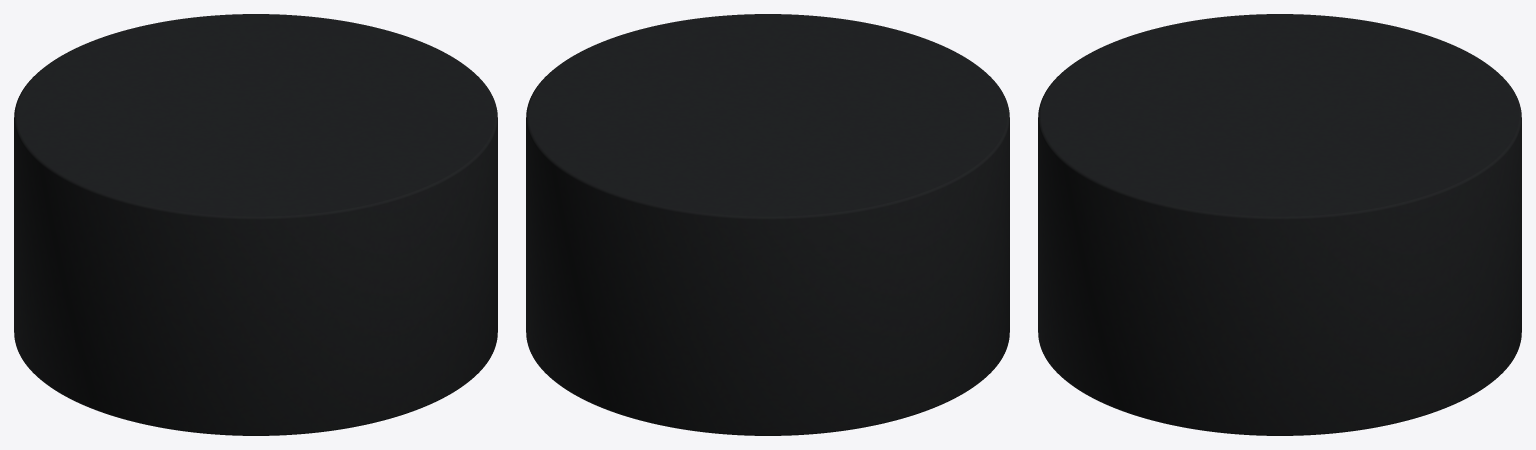
File: caster_link.obj
3 renders of one model, left to right at view 1: azimuth 30°, elevation 25°; view 2: azimuth 150°, elevation 25°; view 3: azimuth 270°, elevation 25°, orthographic.
Visible parts, largest first — view 1: caster_link__front_wheel; view 2: caster_link__front_wheel; view 3: caster_link__front_wheel.
Part boxes in pixels (x1,y1,x2,y2): caster_link__front_wheel: [14, 14, 497, 435]; caster_link__front_wheel: [526, 14, 1009, 435]; caster_link__front_wheel: [1038, 14, 1521, 435].
Size of the model in its own units: 0.08 by 0.04 by 0.08.
1 material, 1 textured.
